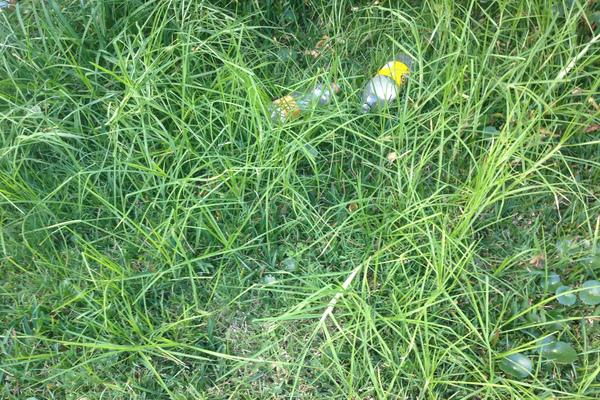Plastic Bottle: (360, 52, 410, 112), (271, 82, 339, 122)
